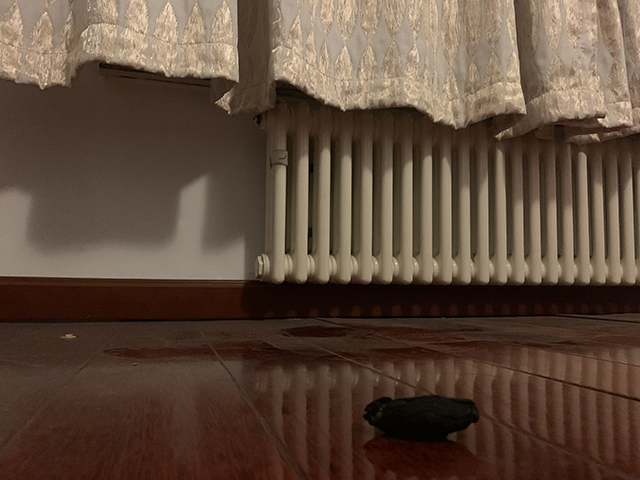feces: (363, 393, 482, 436)
